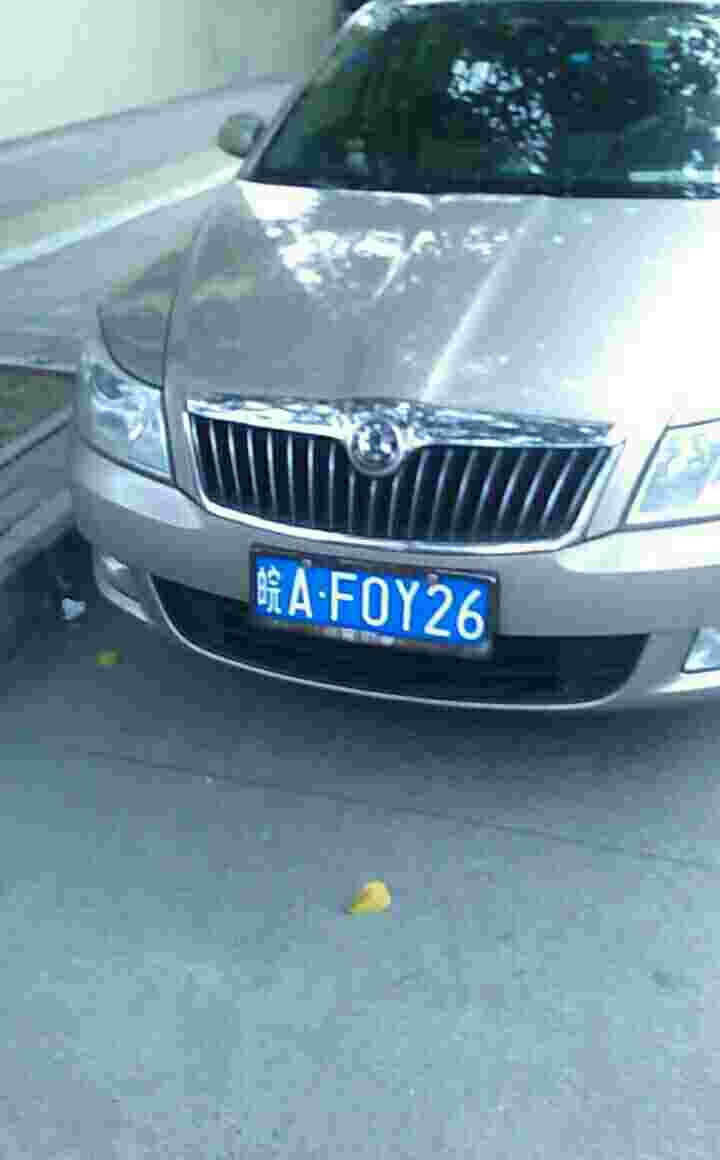plate: (250, 544, 497, 659)
